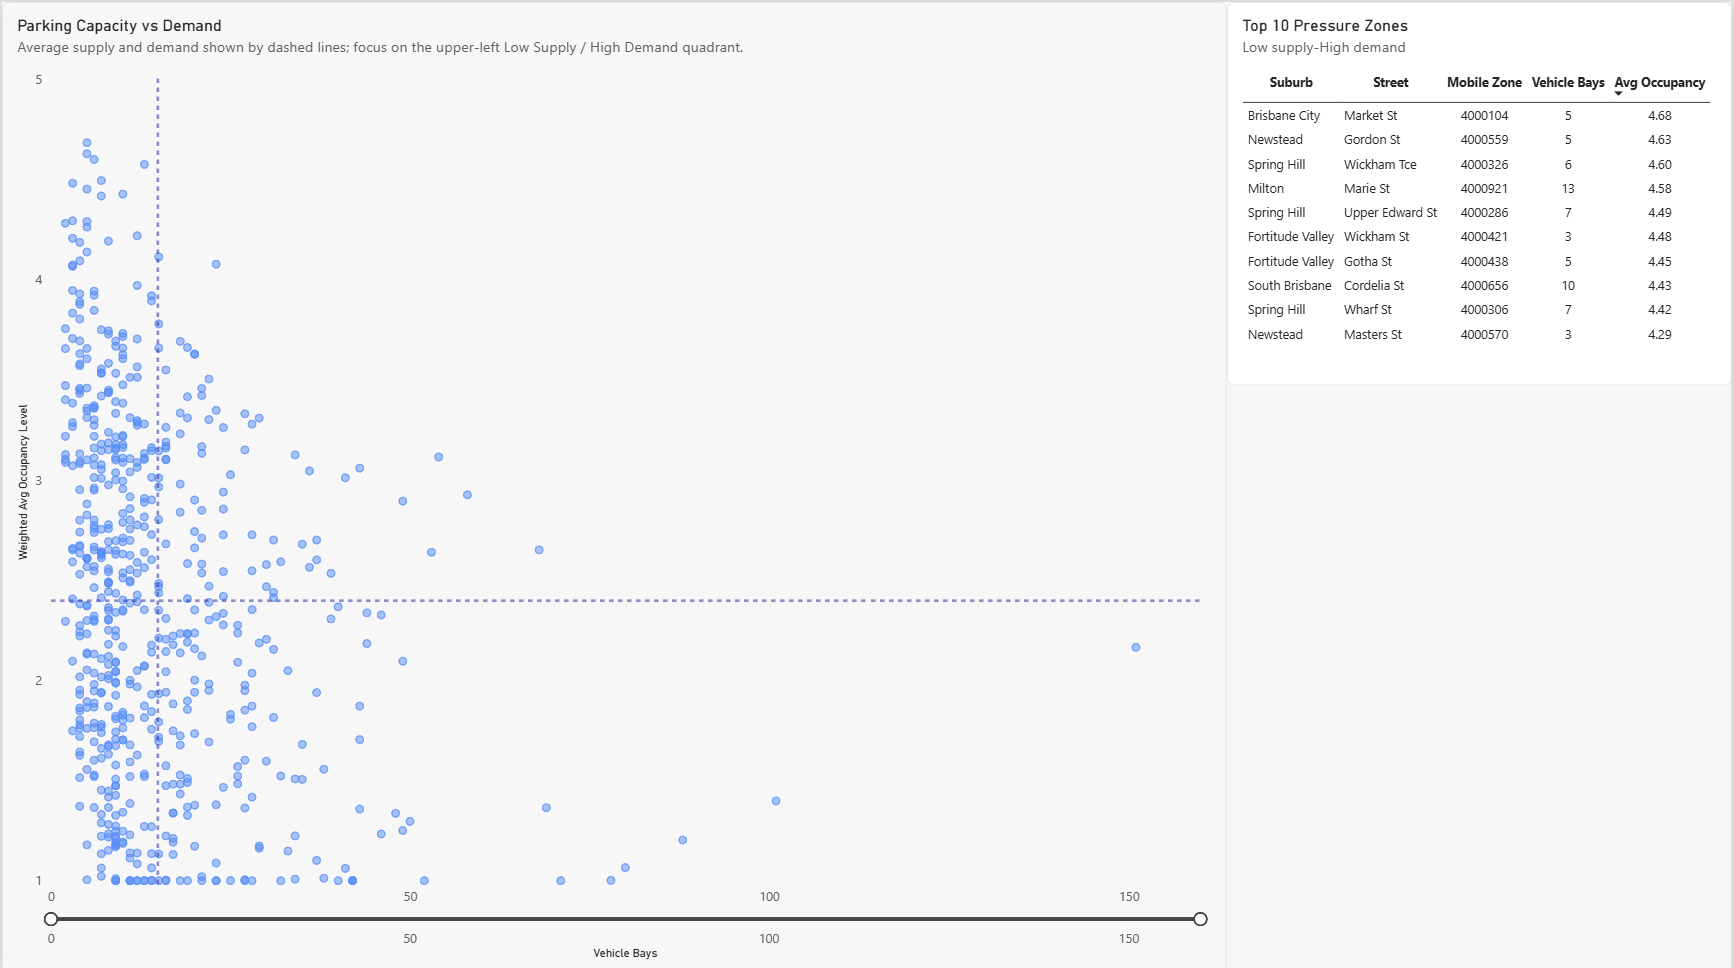

Layout of this report page (visuals, bound fields, positions):
{"tool":"powerbi","page":{"name":"Capacity & Pressure","canvas":[1920,1080],"ordinal":2},"visuals":[{"type":"scatterChart","title":"Parking Capacity vs Demand","fields":{"Category":["Parking Meter.Mobile Zone"],"X":["Sum(Parking Meter.Total Vehicle Bays)"],"Y":["Parking Forecast.Weighted Avg Occupancy Level"]},"box":[0,0,1359.6,1080],"z":0},{"type":"tableEx","title":"Top 10 Pressure Zones","fields":{"Values":["Parking Meter.Primary Suburb","Parking Meter.Street Name","Parking Meter.Mobile Zone","Sum(Parking Meter.Total Vehicle Bays)","Parking Forecast.Weighted Avg Occupancy Level"]},"box":[1359.6,0,560.9,426.1],"z":1000}]}

Visuals, with their boxes in screenshot pixels (x1, y1, x2, y2), scaled from the page's 1920x1080 canvas onto the 1734x968 screenshot:
"Parking Capacity vs Demand" scatterChart: (left=0, top=0, right=1228, bottom=967)
"Top 10 Pressure Zones" tableEx: (left=1228, top=0, right=1733, bottom=382)
